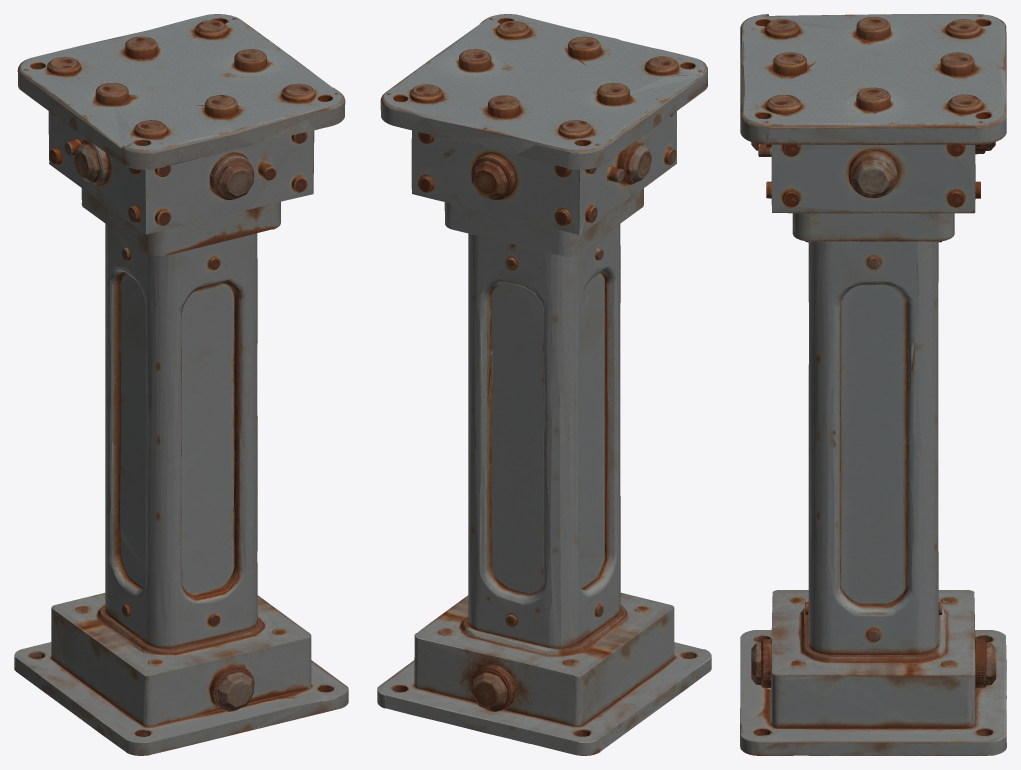
The model's file is steel_belt_post.glb.
The picture shows the model from 3 angles, left to right: view 1: azimuth 30°, elevation 25°; view 2: azimuth 150°, elevation 25°; view 3: azimuth 270°, elevation 25°; orthographic projection. The views are drawn at different scales.
Bounding box in the file's own units: 0.7172 × 1.9 × 0.7173.
Materials: 1 (1 with a texture image).
